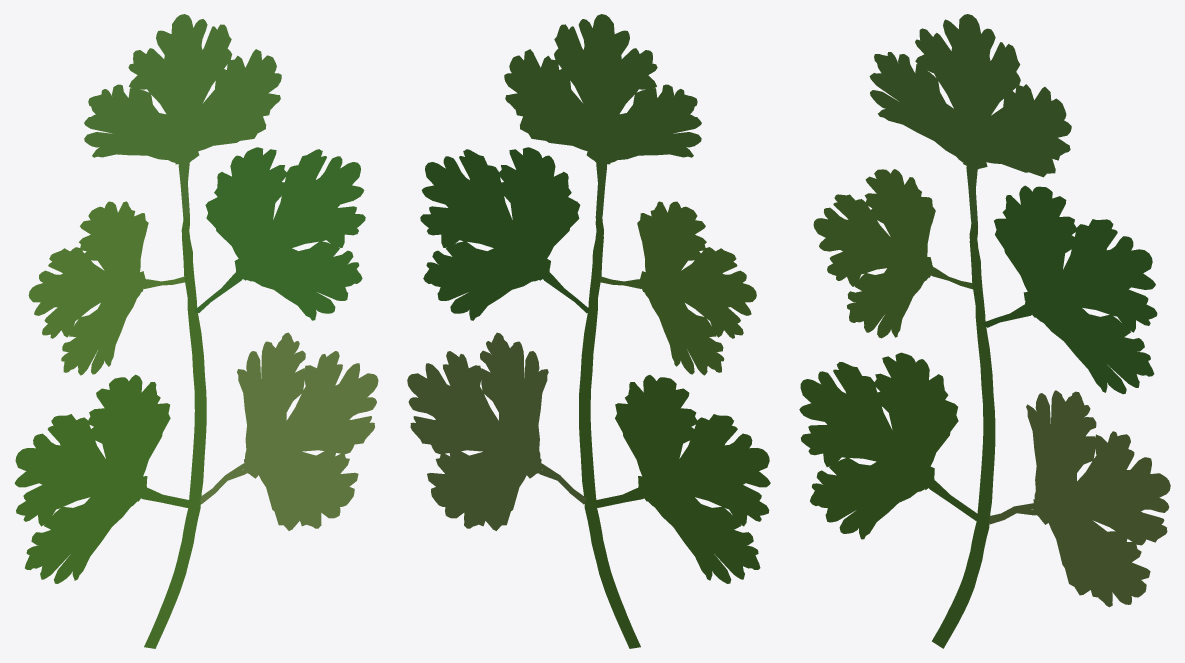
The model's file is Coriander_Deep Zaveri.gltf.
3 renders of one model, left to right at view 1: azimuth 30°, elevation 25°; view 2: azimuth 150°, elevation 25°; view 3: azimuth 330°, elevation 25°, orthographic. The views are drawn at different scales.
Parts seen in each view (by area): view 1: Plane.001, Plane, Plane.003, Plane.002, Plane.004, Plane.005; view 2: Plane.001, Plane, Plane.003, Plane.002, Plane.004, Plane.005; view 3: Plane.001, Plane.003, Plane, Plane.002, Plane.004, Plane.005.
Boxes of the visible parts, box(x1,y1,x2,y2) form: Plane.001: box(84, 14, 281, 218); Plane: box(14, 374, 190, 583); Plane.003: box(199, 332, 378, 530); Plane.002: box(194, 147, 365, 320); Plane.004: box(28, 201, 184, 375); Plane.005: box(144, 216, 206, 648); Plane.001: box(504, 14, 701, 218); Plane: box(594, 375, 770, 583); Plane.003: box(407, 332, 586, 530); Plane.002: box(420, 147, 588, 320); Plane.004: box(599, 201, 756, 375); Plane.005: box(579, 217, 640, 648); Plane.001: box(869, 14, 1071, 225); Plane.003: box(987, 390, 1170, 607); Plane: box(799, 352, 979, 539); Plane.002: box(983, 185, 1157, 394); Plane.004: box(813, 169, 972, 338); Plane.005: box(932, 221, 995, 648).
Bounding box in the file's own units: 2.33 × 3.84 × 0.00548.
